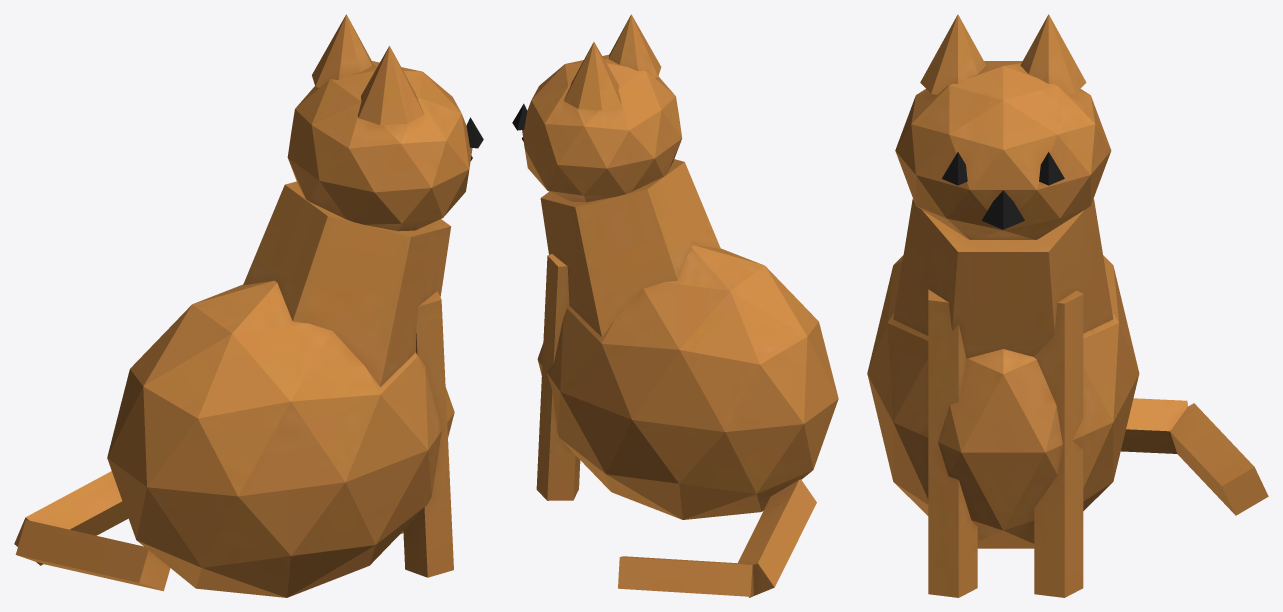
Rendered from katt_1_tex.glb.
The picture shows the model from 3 angles, left to right: view 1: azimuth 30°, elevation 25°; view 2: azimuth 150°, elevation 25°; view 3: azimuth 270°, elevation 25°; orthographic projection. The views are drawn at different scales.
Visible parts, largest first — view 1: katt_1; view 2: katt_1; view 3: katt_1.
Part boxes in pixels (bbox=[...]): katt_1: bbox=[14, 14, 483, 597]; katt_1: bbox=[512, 14, 838, 597]; katt_1: bbox=[867, 14, 1268, 597].
Size of the model in its own units: 0.3012 by 0.415 by 0.2655.
Materials: 2 (1 with a texture image).
